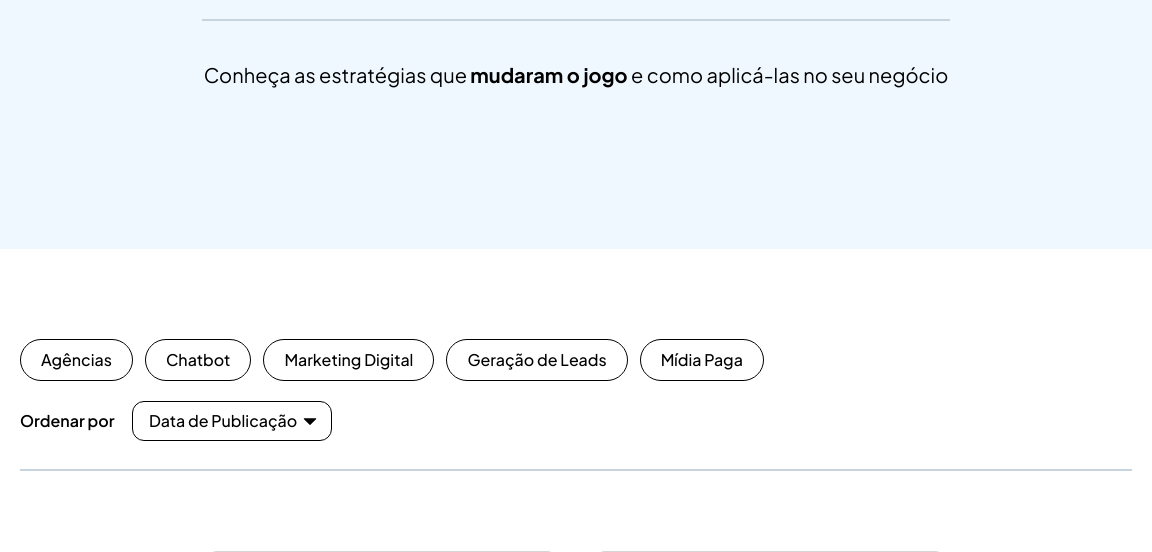
Test case: Tests the hero section › Checks that after clicking on the 'Agências' category, there are only 6 cards rendered on the screen
(page scrolled)
Click the button with test id "category-button" showing "Agências": (77, 360) x1=20 y1=339 x2=133 y2=381
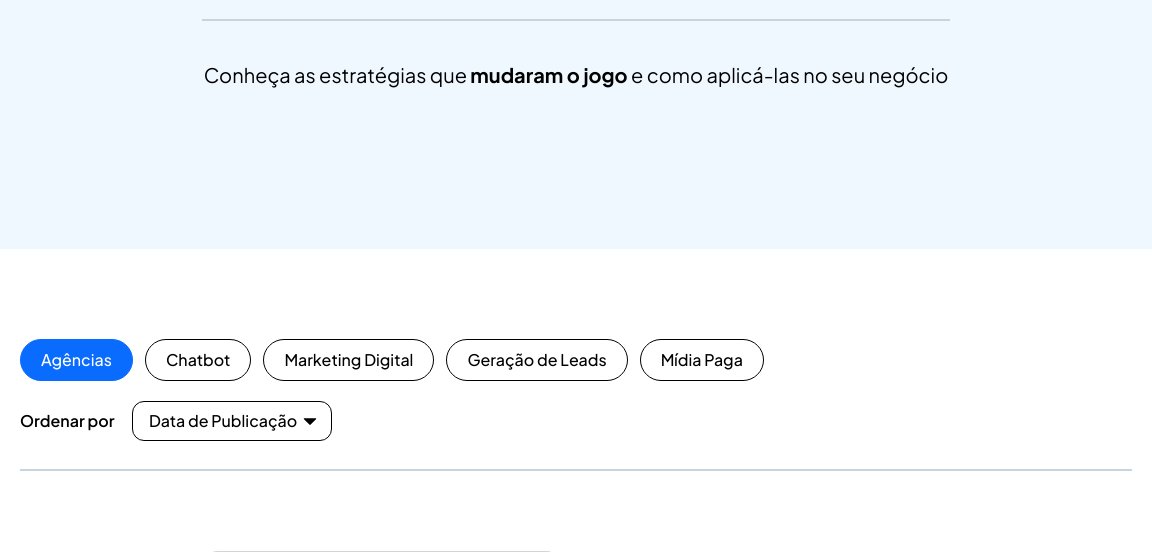
Result: the number of elements with test id "card" is 6
